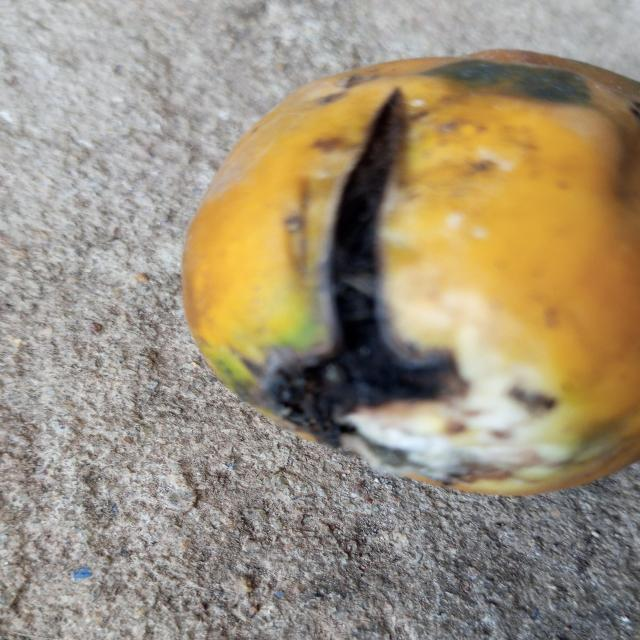damaged: (183, 51, 640, 495)
